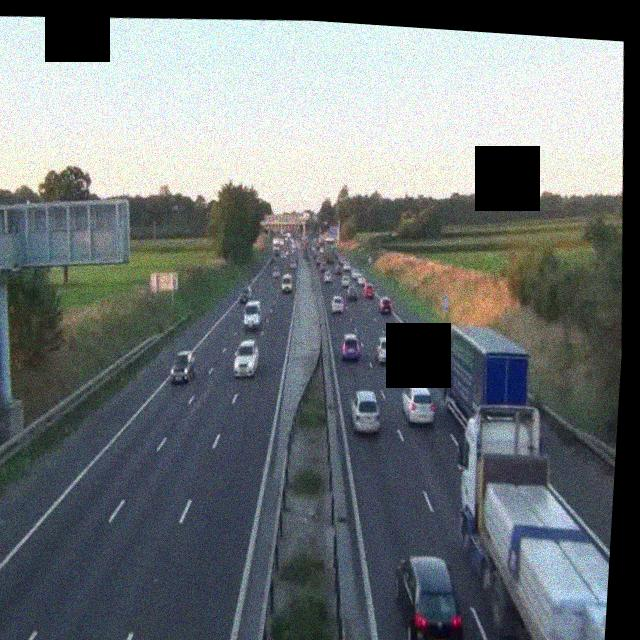car: (391, 551, 470, 640), (400, 383, 437, 427), (349, 389, 383, 436), (233, 340, 261, 381), (168, 348, 196, 384), (374, 334, 398, 367), (242, 298, 264, 331), (340, 332, 362, 362), (403, 326, 425, 354), (331, 294, 347, 315), (281, 274, 295, 296), (379, 294, 394, 314), (237, 286, 252, 306), (346, 284, 360, 302), (362, 282, 375, 298), (324, 270, 334, 283), (271, 266, 281, 278)
truck: (423, 323, 623, 640), (274, 234, 285, 254)
